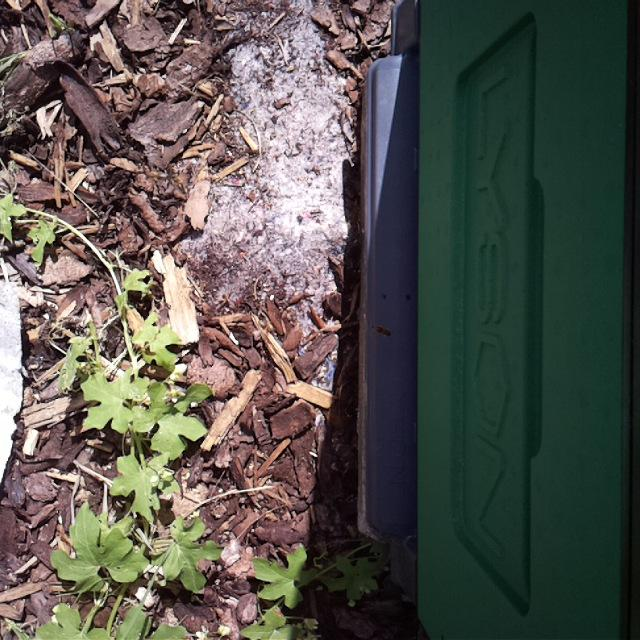worker-bee: (368, 319, 397, 340)
